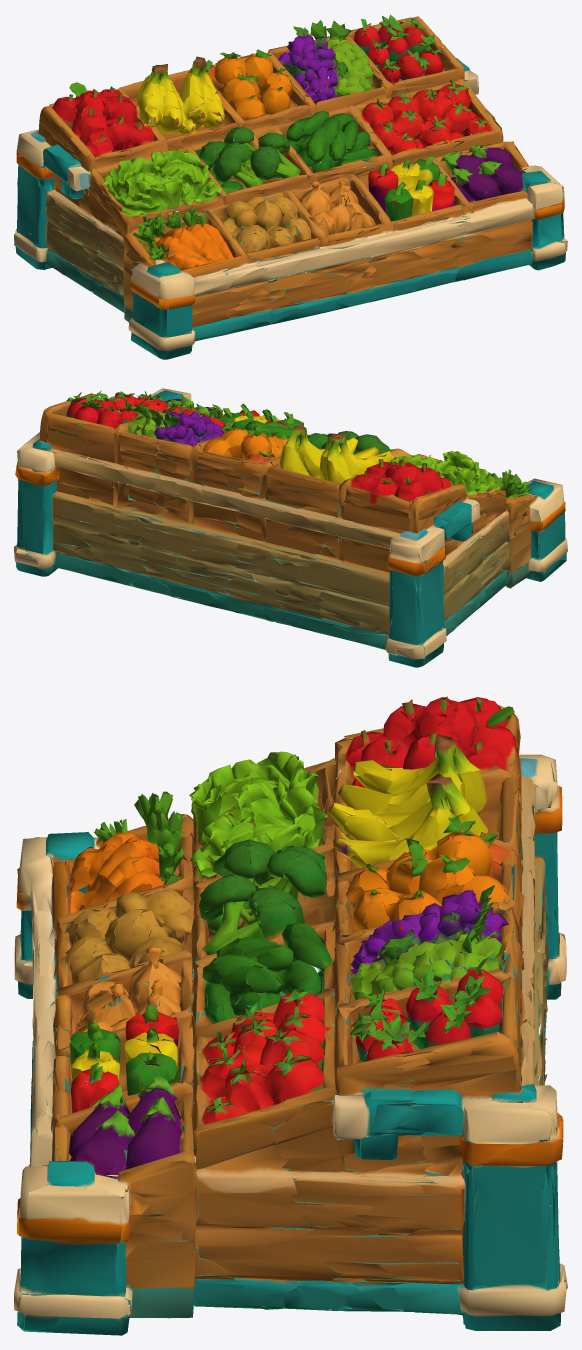
Rendered from GameFruitStand.fbx.
The picture shows the model from 3 angles, top to bottom: view 1: azimuth 30°, elevation 25°; view 2: azimuth 150°, elevation 25°; view 3: azimuth 270°, elevation 25°; orthographic projection. The views are drawn at different scales.
Visible parts, largest first — view 1: GameFruitStand; view 2: GameFruitStand; view 3: GameFruitStand.
Part boxes in pixels (x1,y1,x2,y2): GameFruitStand: (14,14,567,359); GameFruitStand: (14,388,567,667); GameFruitStand: (14,696,567,1335).
Size of the model in its own units: 220 by 93.27 by 139.
